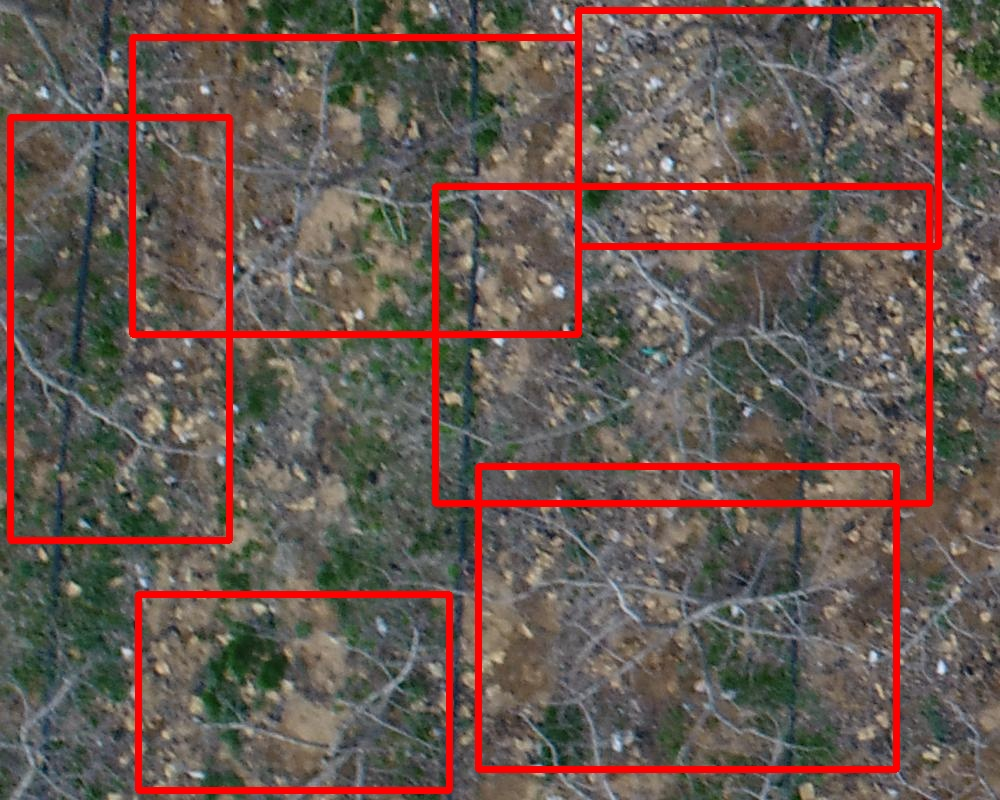apple: (435, 186, 929, 503), (132, 37, 578, 334), (478, 466, 896, 769), (10, 117, 229, 540), (578, 10, 938, 246), (138, 594, 449, 790)
